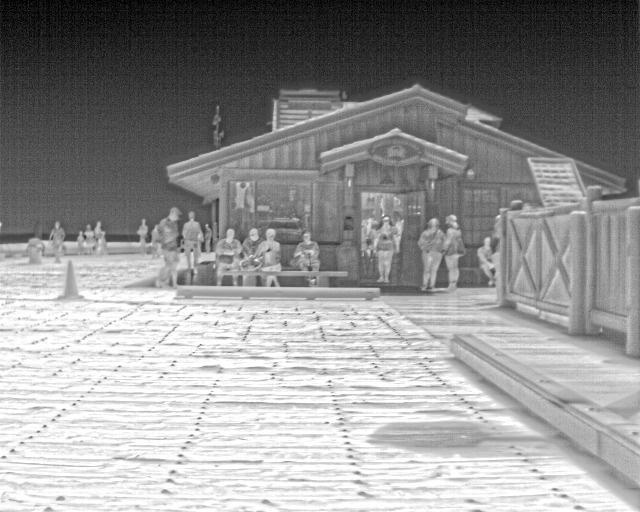empty: (149, 205, 184, 286), (415, 217, 446, 295), (441, 212, 465, 292), (179, 210, 207, 278), (369, 214, 396, 282), (212, 226, 240, 271), (255, 228, 281, 273), (293, 232, 321, 270), (476, 237, 498, 284), (49, 220, 68, 264), (239, 227, 258, 266), (137, 219, 152, 252)
